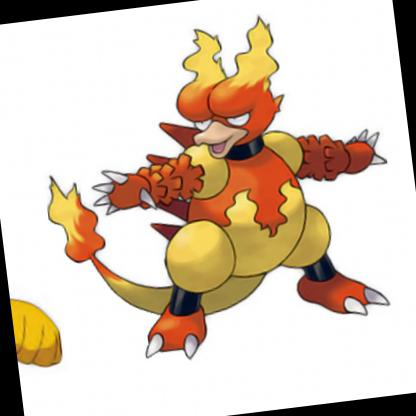Magmar: (8, 1, 416, 414)
